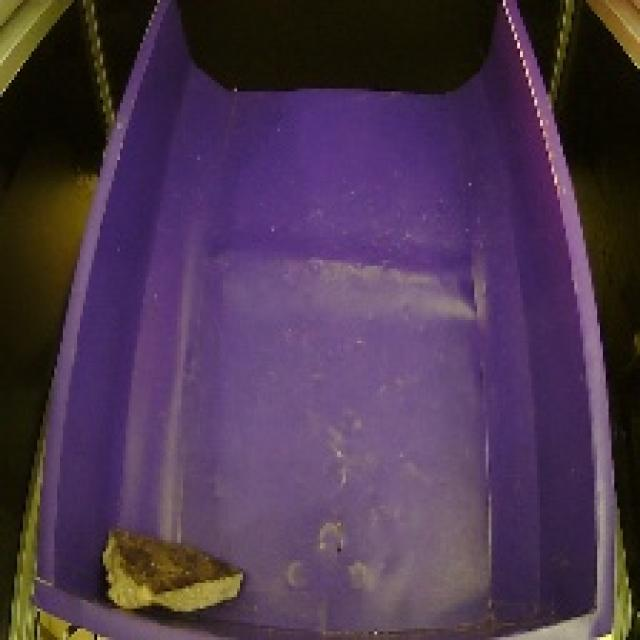china: (84, 516, 256, 625)
